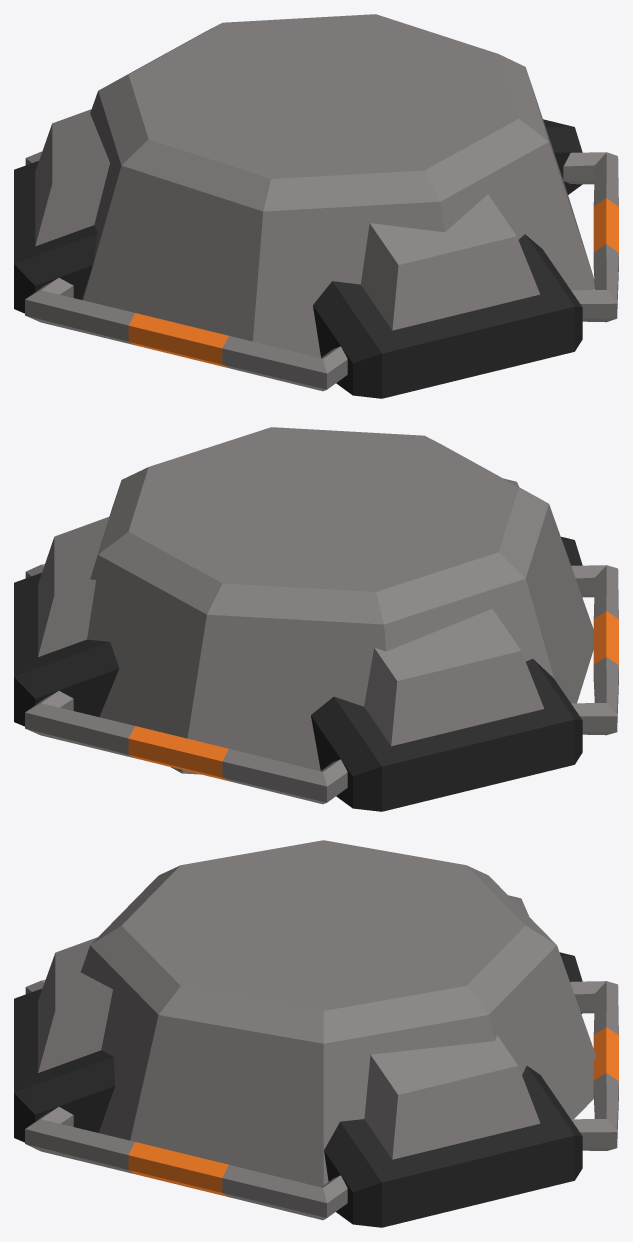
File: scifi-turret-base-circle-big.fbx
3 views of the same model, one above another, from view 1: azimuth 30°, elevation 25°; view 2: azimuth 150°, elevation 25°; view 3: azimuth 270°, elevation 25° (orthographic).
Visible parts, largest first — view 1: scifi_turret_base_circle_big; view 2: scifi_turret_base_circle_big; view 3: scifi_turret_base_circle_big.
Part boxes in pixels (x1,y1,x2,y2): scifi_turret_base_circle_big: (14,14,618,398); scifi_turret_base_circle_big: (14,427,618,811); scifi_turret_base_circle_big: (14,840,618,1227).
Size of the model in its own units: 503 by 134 by 445.
